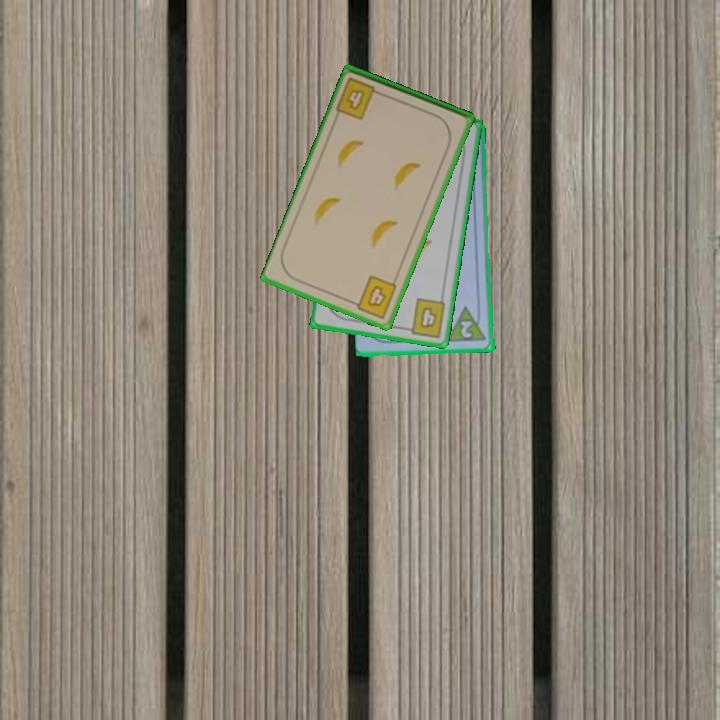2p: (445, 303, 489, 345)
4b: (348, 272, 400, 322), (333, 74, 386, 123), (401, 295, 449, 340)
